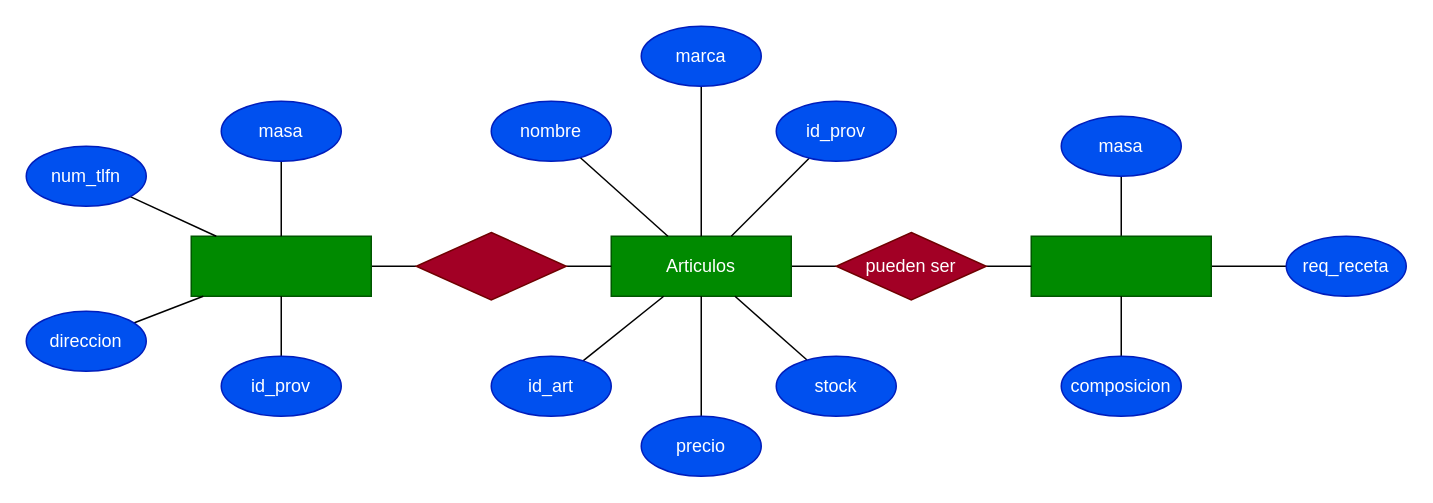
Image size: 1433x503. Some labels were removed from this diagram. The centre of each missing label's shape, as x and y in pixels:
Medicamentos: point 1120,265
Proveedores: point 280,265
suministran: point 490,265
